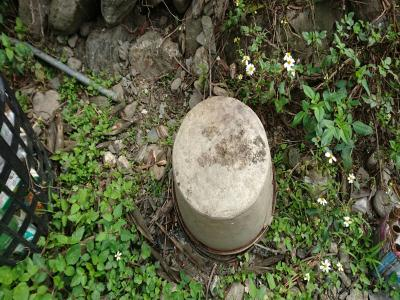bucket: (168, 93, 284, 262)
